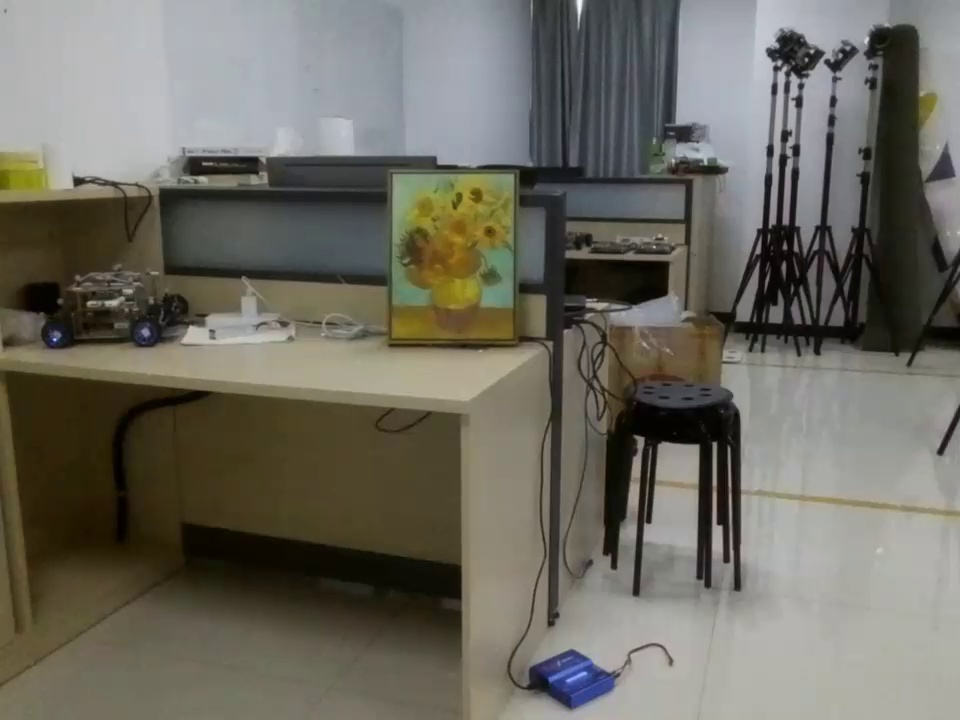painting: (384, 171, 528, 351)
